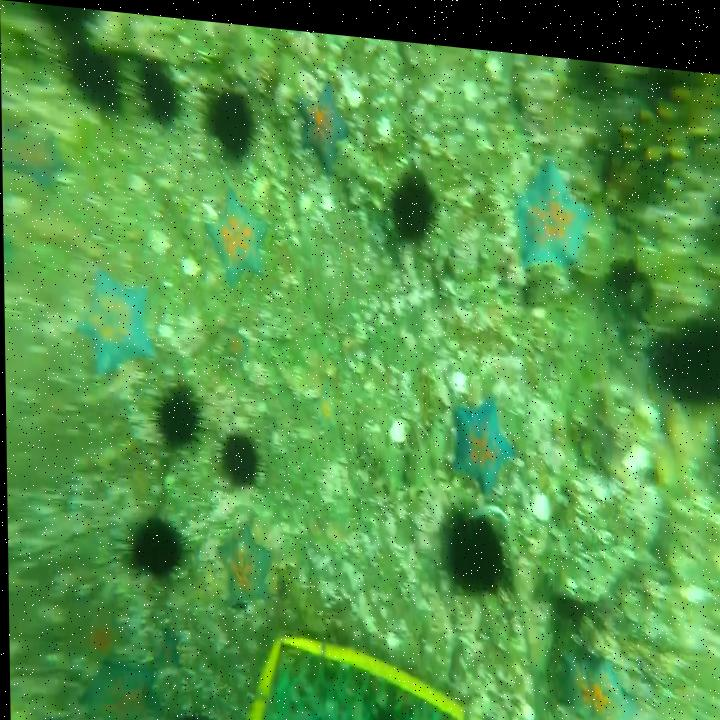echinus: (644, 290, 720, 401), (433, 494, 506, 588), (115, 500, 190, 584), (60, 34, 130, 122), (382, 155, 442, 239), (196, 76, 257, 155), (149, 370, 200, 453), (209, 418, 267, 489), (135, 62, 186, 127), (34, 3, 99, 51), (606, 238, 641, 292), (353, 702, 427, 720), (168, 702, 214, 720)
starfish: (71, 253, 152, 376), (506, 148, 589, 268), (198, 178, 270, 281), (209, 507, 277, 601), (561, 632, 630, 720), (292, 67, 352, 168), (447, 384, 507, 482), (76, 654, 151, 720), (2, 123, 67, 194), (79, 592, 130, 668), (307, 366, 342, 422), (147, 621, 183, 672), (212, 314, 248, 363), (682, 701, 720, 720)
